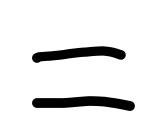eqv: (32, 46, 135, 111)
